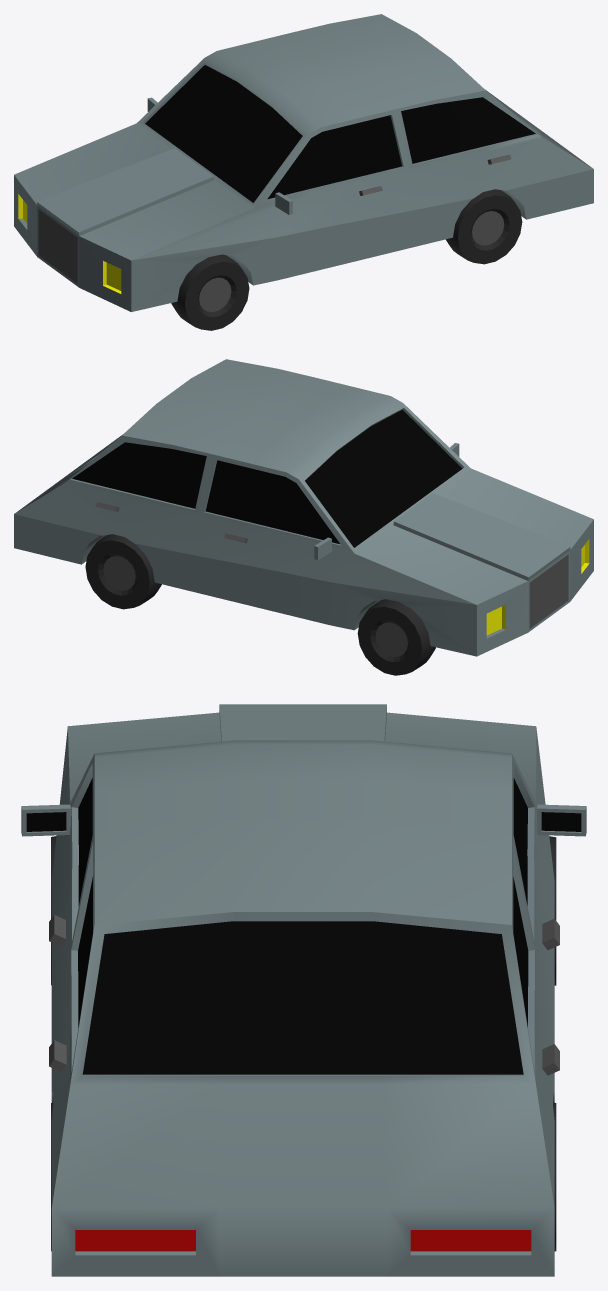
File: Car 4.FBX
The picture shows the model from 3 angles, top to bottom: view 1: azimuth 30°, elevation 25°; view 2: azimuth 150°, elevation 25°; view 3: azimuth 270°, elevation 25°; orthographic projection. The views are drawn at different scales.
Parts seen in each view (by area): view 1: Car 4; view 2: Car 4; view 3: Car 4.
Part boxes in pixels (box(x1,y1,x2,y2)): Car 4: box(14, 14, 593, 330); Car 4: box(14, 359, 593, 675); Car 4: box(21, 704, 586, 1276).
Bounding box in the file's own units: 11.51 × 4.05 × 5.96.
1 material, 1 textured.
